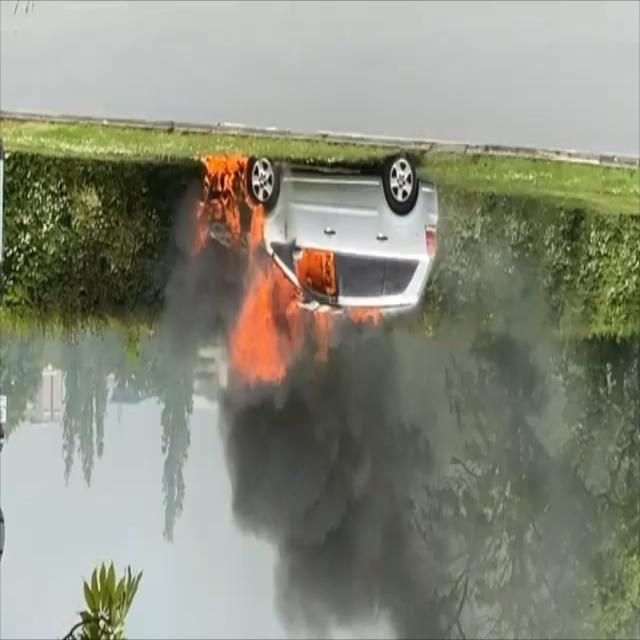fire: (199, 144, 382, 392)
